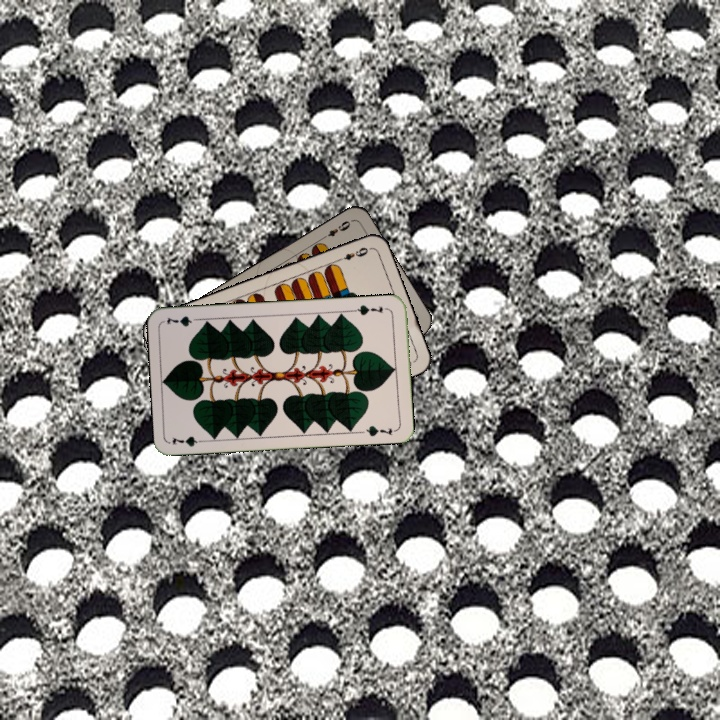E9: (317, 216, 353, 243), (333, 243, 372, 264)
G7: (350, 301, 391, 318), (168, 432, 209, 449)
